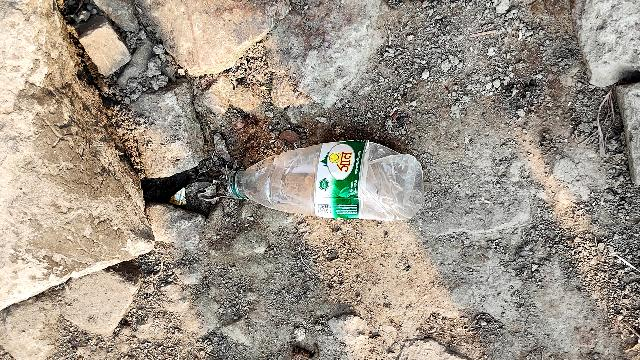bottle: (224, 136, 435, 225)
